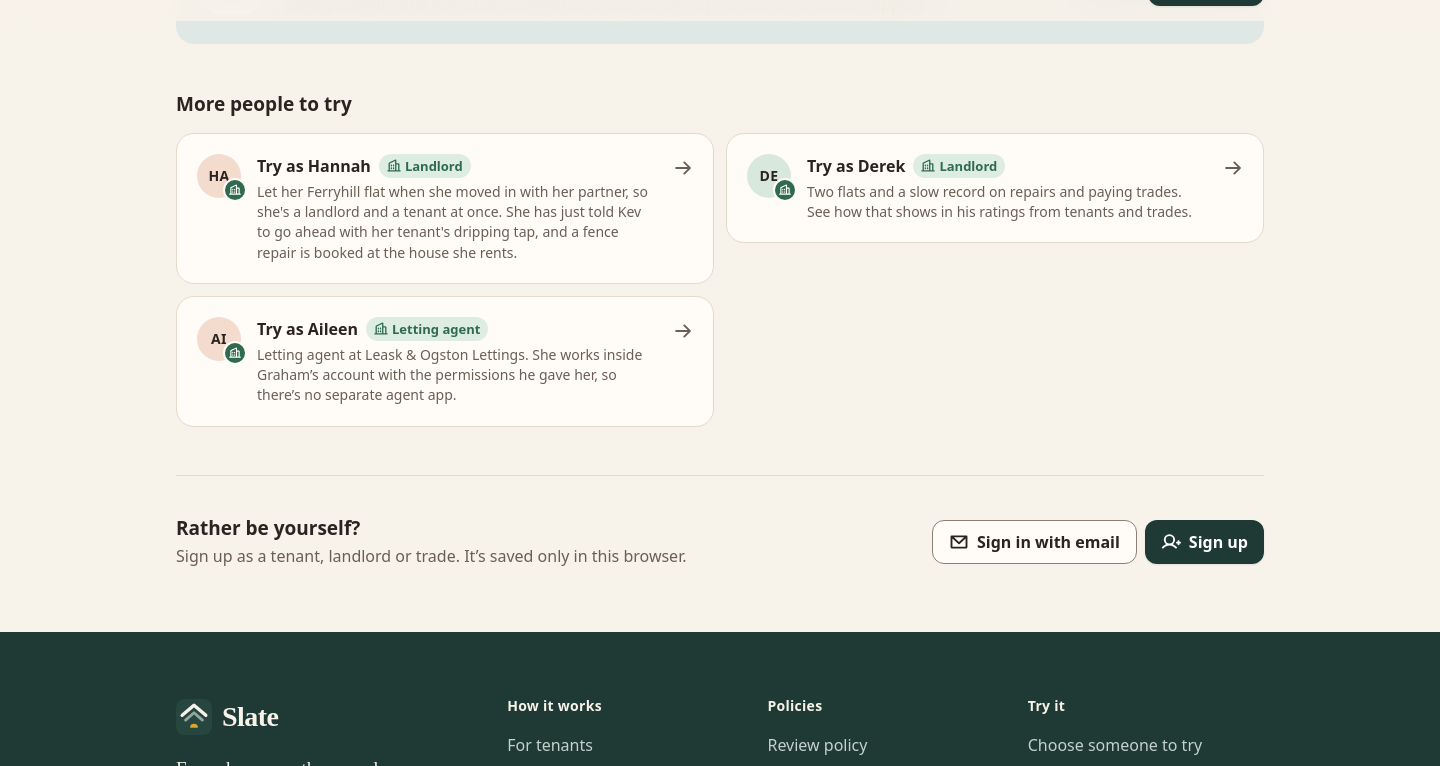
persona picker at /start › a letting agent signs in to the landlord portal
(page scrolled)
Click the button "Try as Aileen": (445, 361) [176,296,714,427]
(page scrolled)
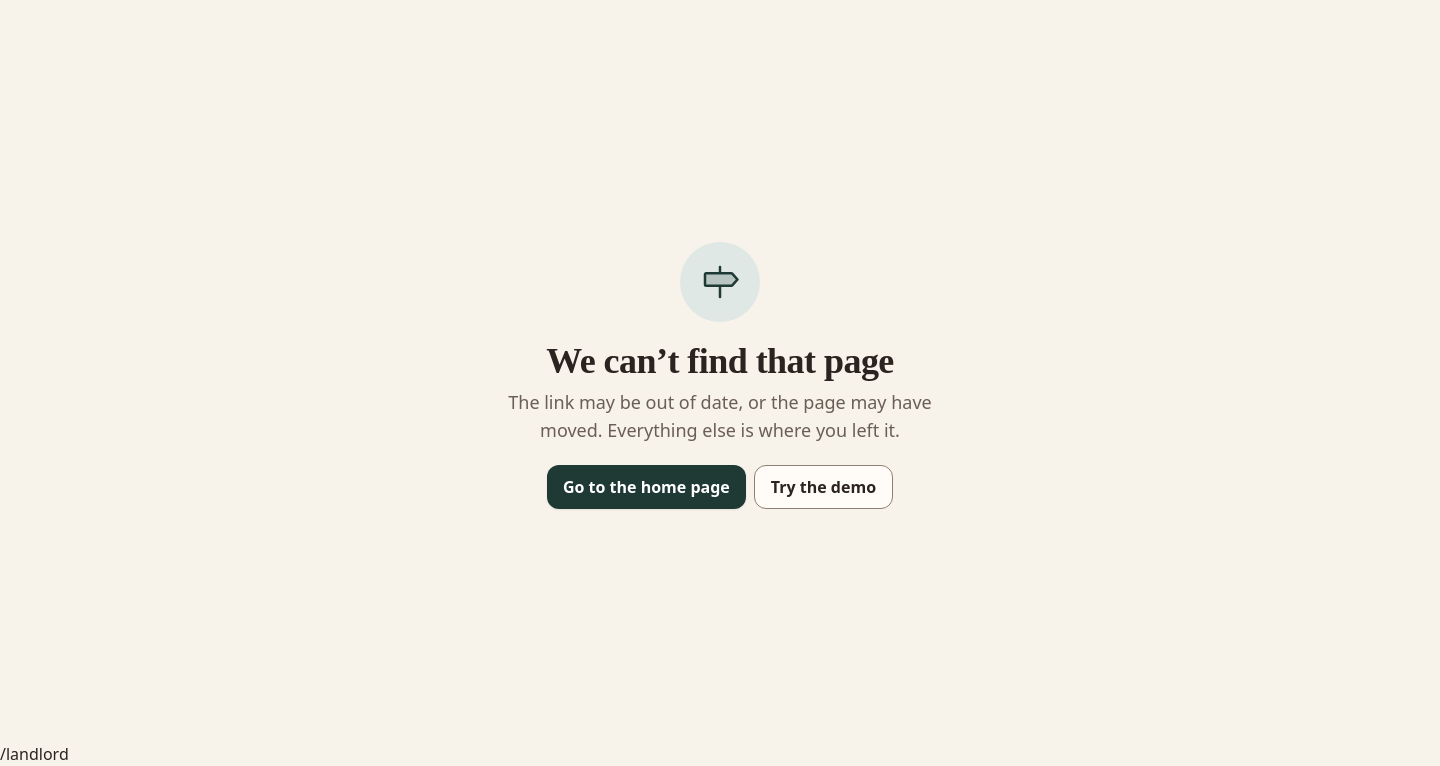
Check: the text with test id "location" reads "/landlord", box [0,743,69,765]
